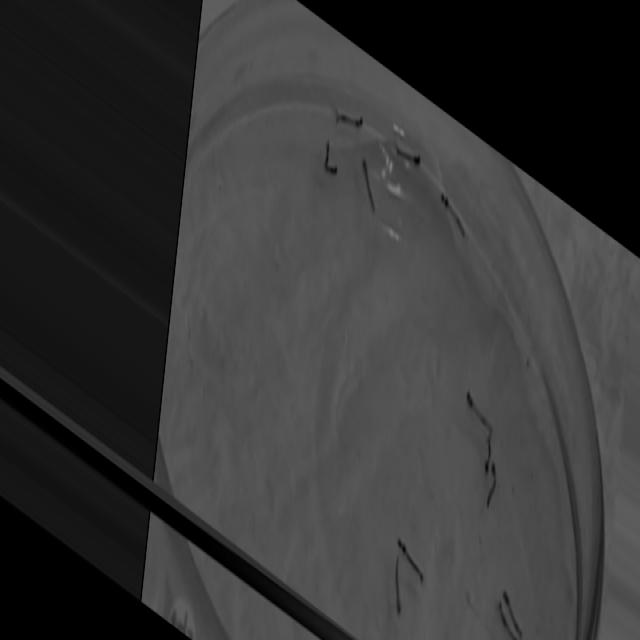larvas: (499, 584, 531, 640), (395, 535, 428, 589), (442, 194, 464, 234), (467, 395, 492, 429), (496, 597, 516, 638), (362, 160, 376, 210), (393, 555, 404, 615), (396, 145, 421, 164), (323, 143, 339, 172), (488, 461, 497, 509), (338, 112, 364, 126), (484, 433, 493, 471)
